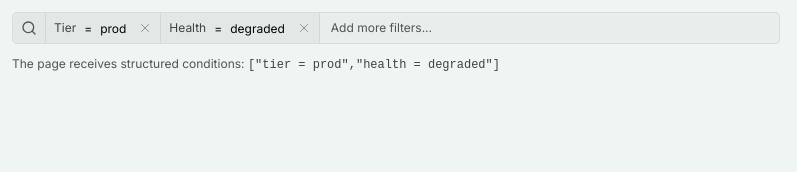
Test: filter bar › shows each condition as a chip with its own named remove button, and removes one
expect the element named "Filter targets" is shown: met, box [12,12,780,44]
Click the button named "Remove Tier filter" at (145, 28), box [132,15,158,41]
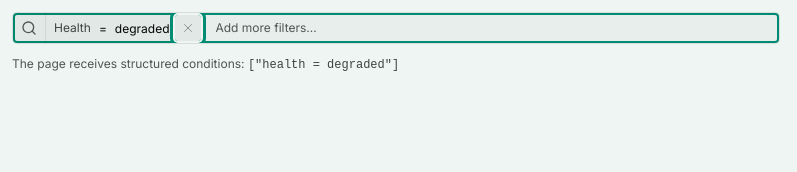
expect the text "health = degraded" is shown: met, box [248,58,399,72]
expect the button named "Remove Health filter" is shown: met, box [176,15,202,41]
